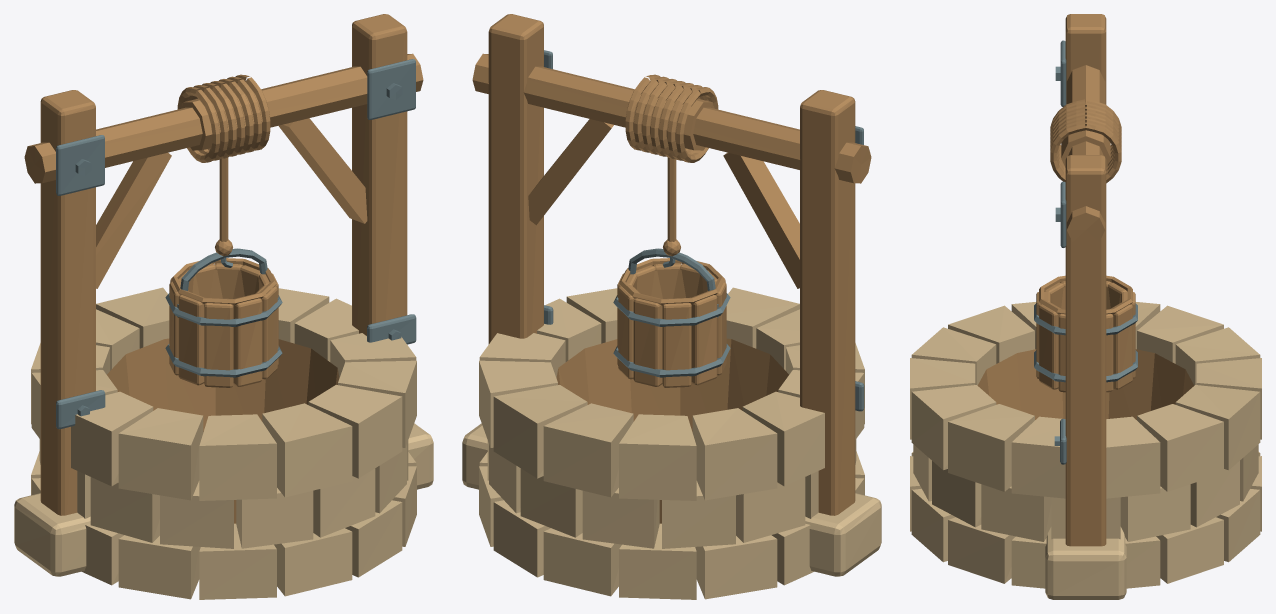
File: Well.glb
3 renders of one model, left to right at view 1: azimuth 30°, elevation 25°; view 2: azimuth 150°, elevation 25°; view 3: azimuth 270°, elevation 25°, orthographic. The views are drawn at different scales.
Parts seen in each view (by area): view 1: hand-pump-static-well-warm-stone-mat, hand-pump-static-well-structural-timber-mat, hand-pump-static-well-bucket-wood-mat, hand-pump-static-well-shaft-cavity-mat, hand-pump-static-well-dark-iron-mat, hand-pump-static-well-dark-rope-mat; view 2: hand-pump-static-well-warm-stone-mat, hand-pump-static-well-structural-timber-mat, hand-pump-static-well-bucket-wood-mat, hand-pump-static-well-shaft-cavity-mat, hand-pump-static-well-dark-rope-mat, hand-pump-static-well-dark-iron-mat; view 3: hand-pump-static-well-warm-stone-mat, hand-pump-static-well-structural-timber-mat, hand-pump-static-well-shaft-cavity-mat, hand-pump-static-well-bucket-wood-mat, hand-pump-static-well-dark-rope-mat, hand-pump-static-well-dark-iron-mat.
Part boxes in pixels (x1,y1,x2,y2): hand-pump-static-well-warm-stone-mat: (14, 287, 433, 599); hand-pump-static-well-structural-timber-mat: (24, 14, 423, 515); hand-pump-static-well-bucket-wood-mat: (169, 258, 278, 387); hand-pump-static-well-shaft-cavity-mat: (107, 269, 339, 523); hand-pump-static-well-dark-iron-mat: (56, 59, 416, 429); hand-pump-static-well-dark-rope-mat: (177, 74, 270, 256); hand-pump-static-well-warm-stone-mat: (462, 287, 881, 599); hand-pump-static-well-structural-timber-mat: (472, 14, 871, 515); hand-pump-static-well-bucket-wood-mat: (617, 258, 726, 387); hand-pump-static-well-shaft-cavity-mat: (556, 269, 788, 523); hand-pump-static-well-dark-rope-mat: (625, 74, 718, 256); hand-pump-static-well-dark-iron-mat: (544, 50, 864, 411); hand-pump-static-well-warm-stone-mat: (910, 302, 1261, 599); hand-pump-static-well-structural-timber-mat: (1065, 14, 1106, 546); hand-pump-static-well-shaft-cavity-mat: (977, 287, 1194, 419); hand-pump-static-well-bucket-wood-mat: (1036, 275, 1135, 392); hand-pump-static-well-dark-rope-mat: (1050, 99, 1121, 183); hand-pump-static-well-dark-iron-mat: (1034, 40, 1137, 464).
Size of the model in its own units: 1.82 by 2.08 by 1.56.
